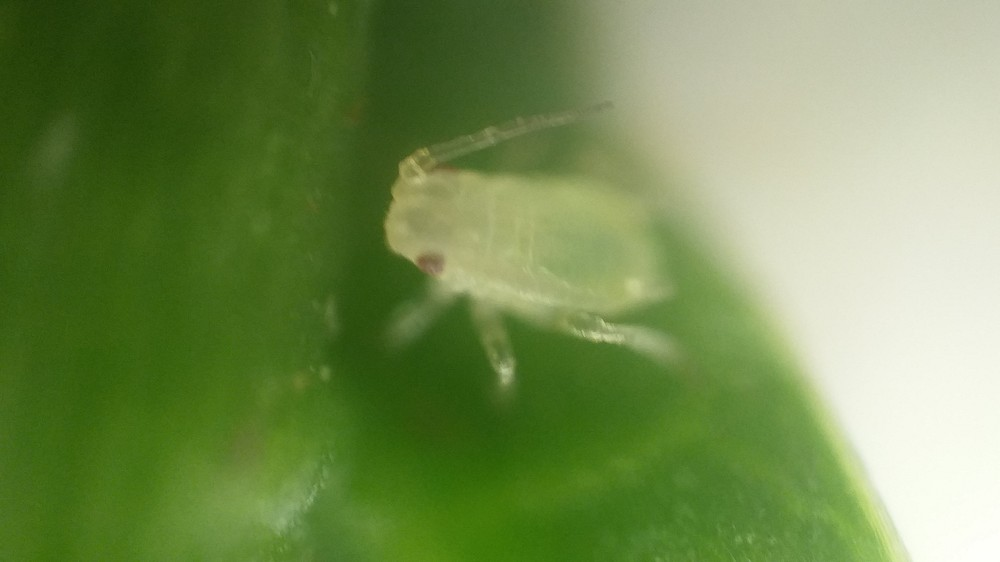Pulgon: (361, 81, 741, 411)
